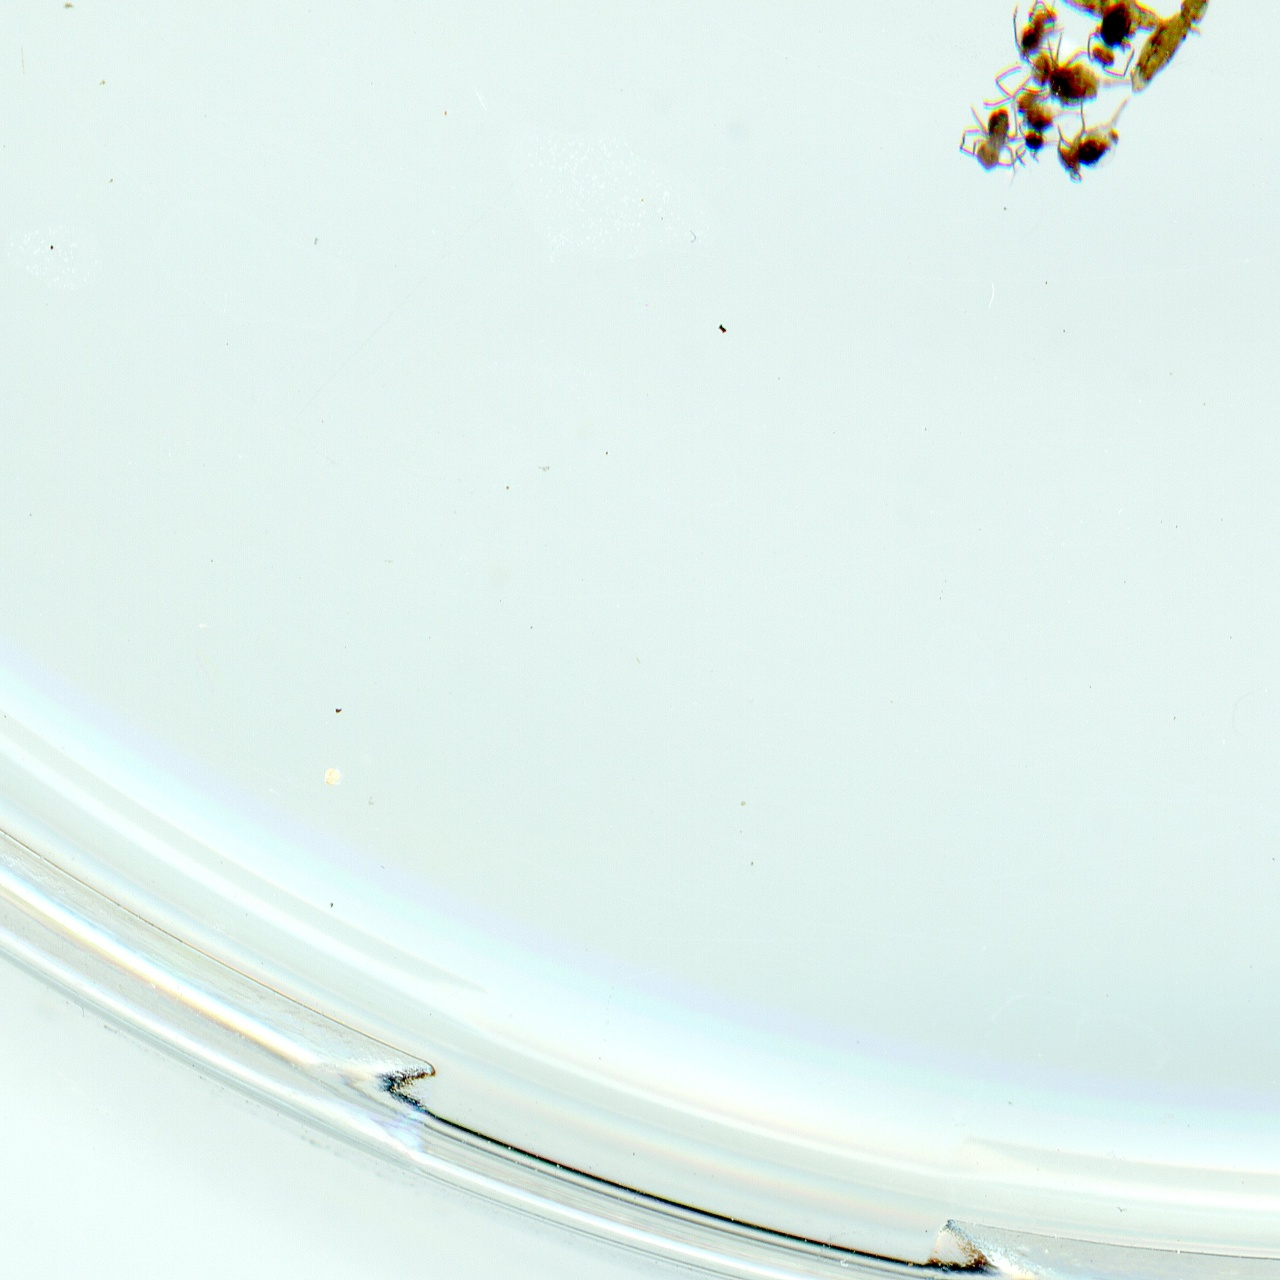arthropod: (982, 2, 1137, 110), (1034, 72, 1147, 199), (974, 51, 1088, 164), (1075, 0, 1167, 85), (955, 103, 1028, 190), (1015, 0, 1067, 66)
